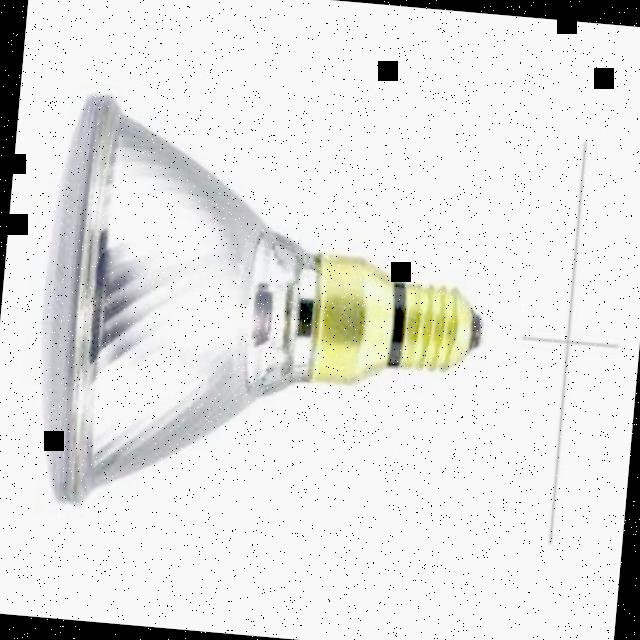light_bulb: (22, 91, 504, 548)
